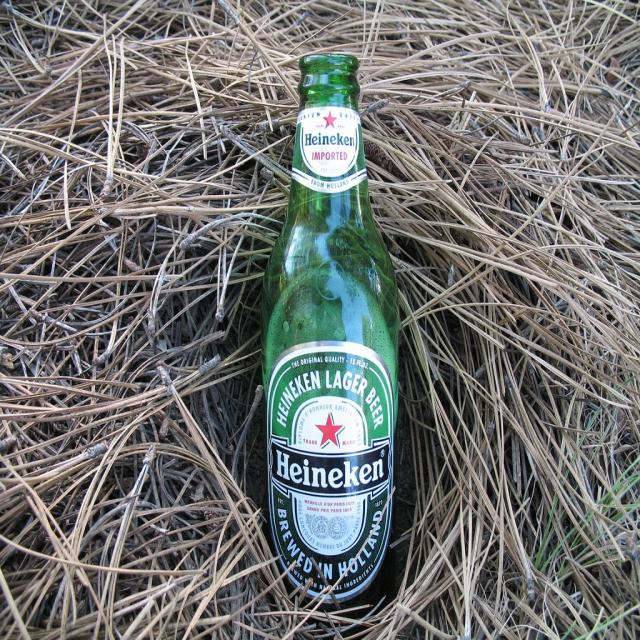heineken: (267, 342, 396, 601)
